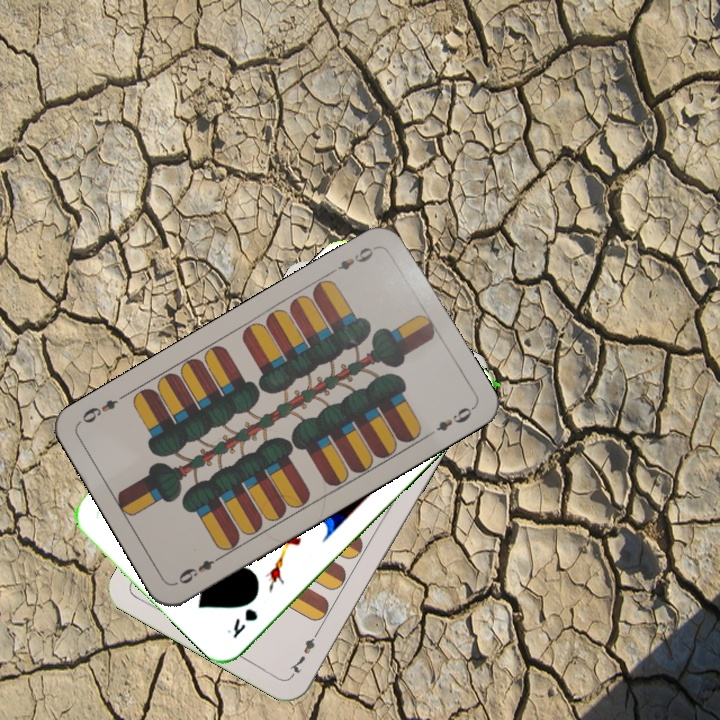E7: (285, 625, 323, 679)
E9: (171, 551, 226, 587), (325, 241, 380, 277)
GK: (223, 604, 261, 642)
